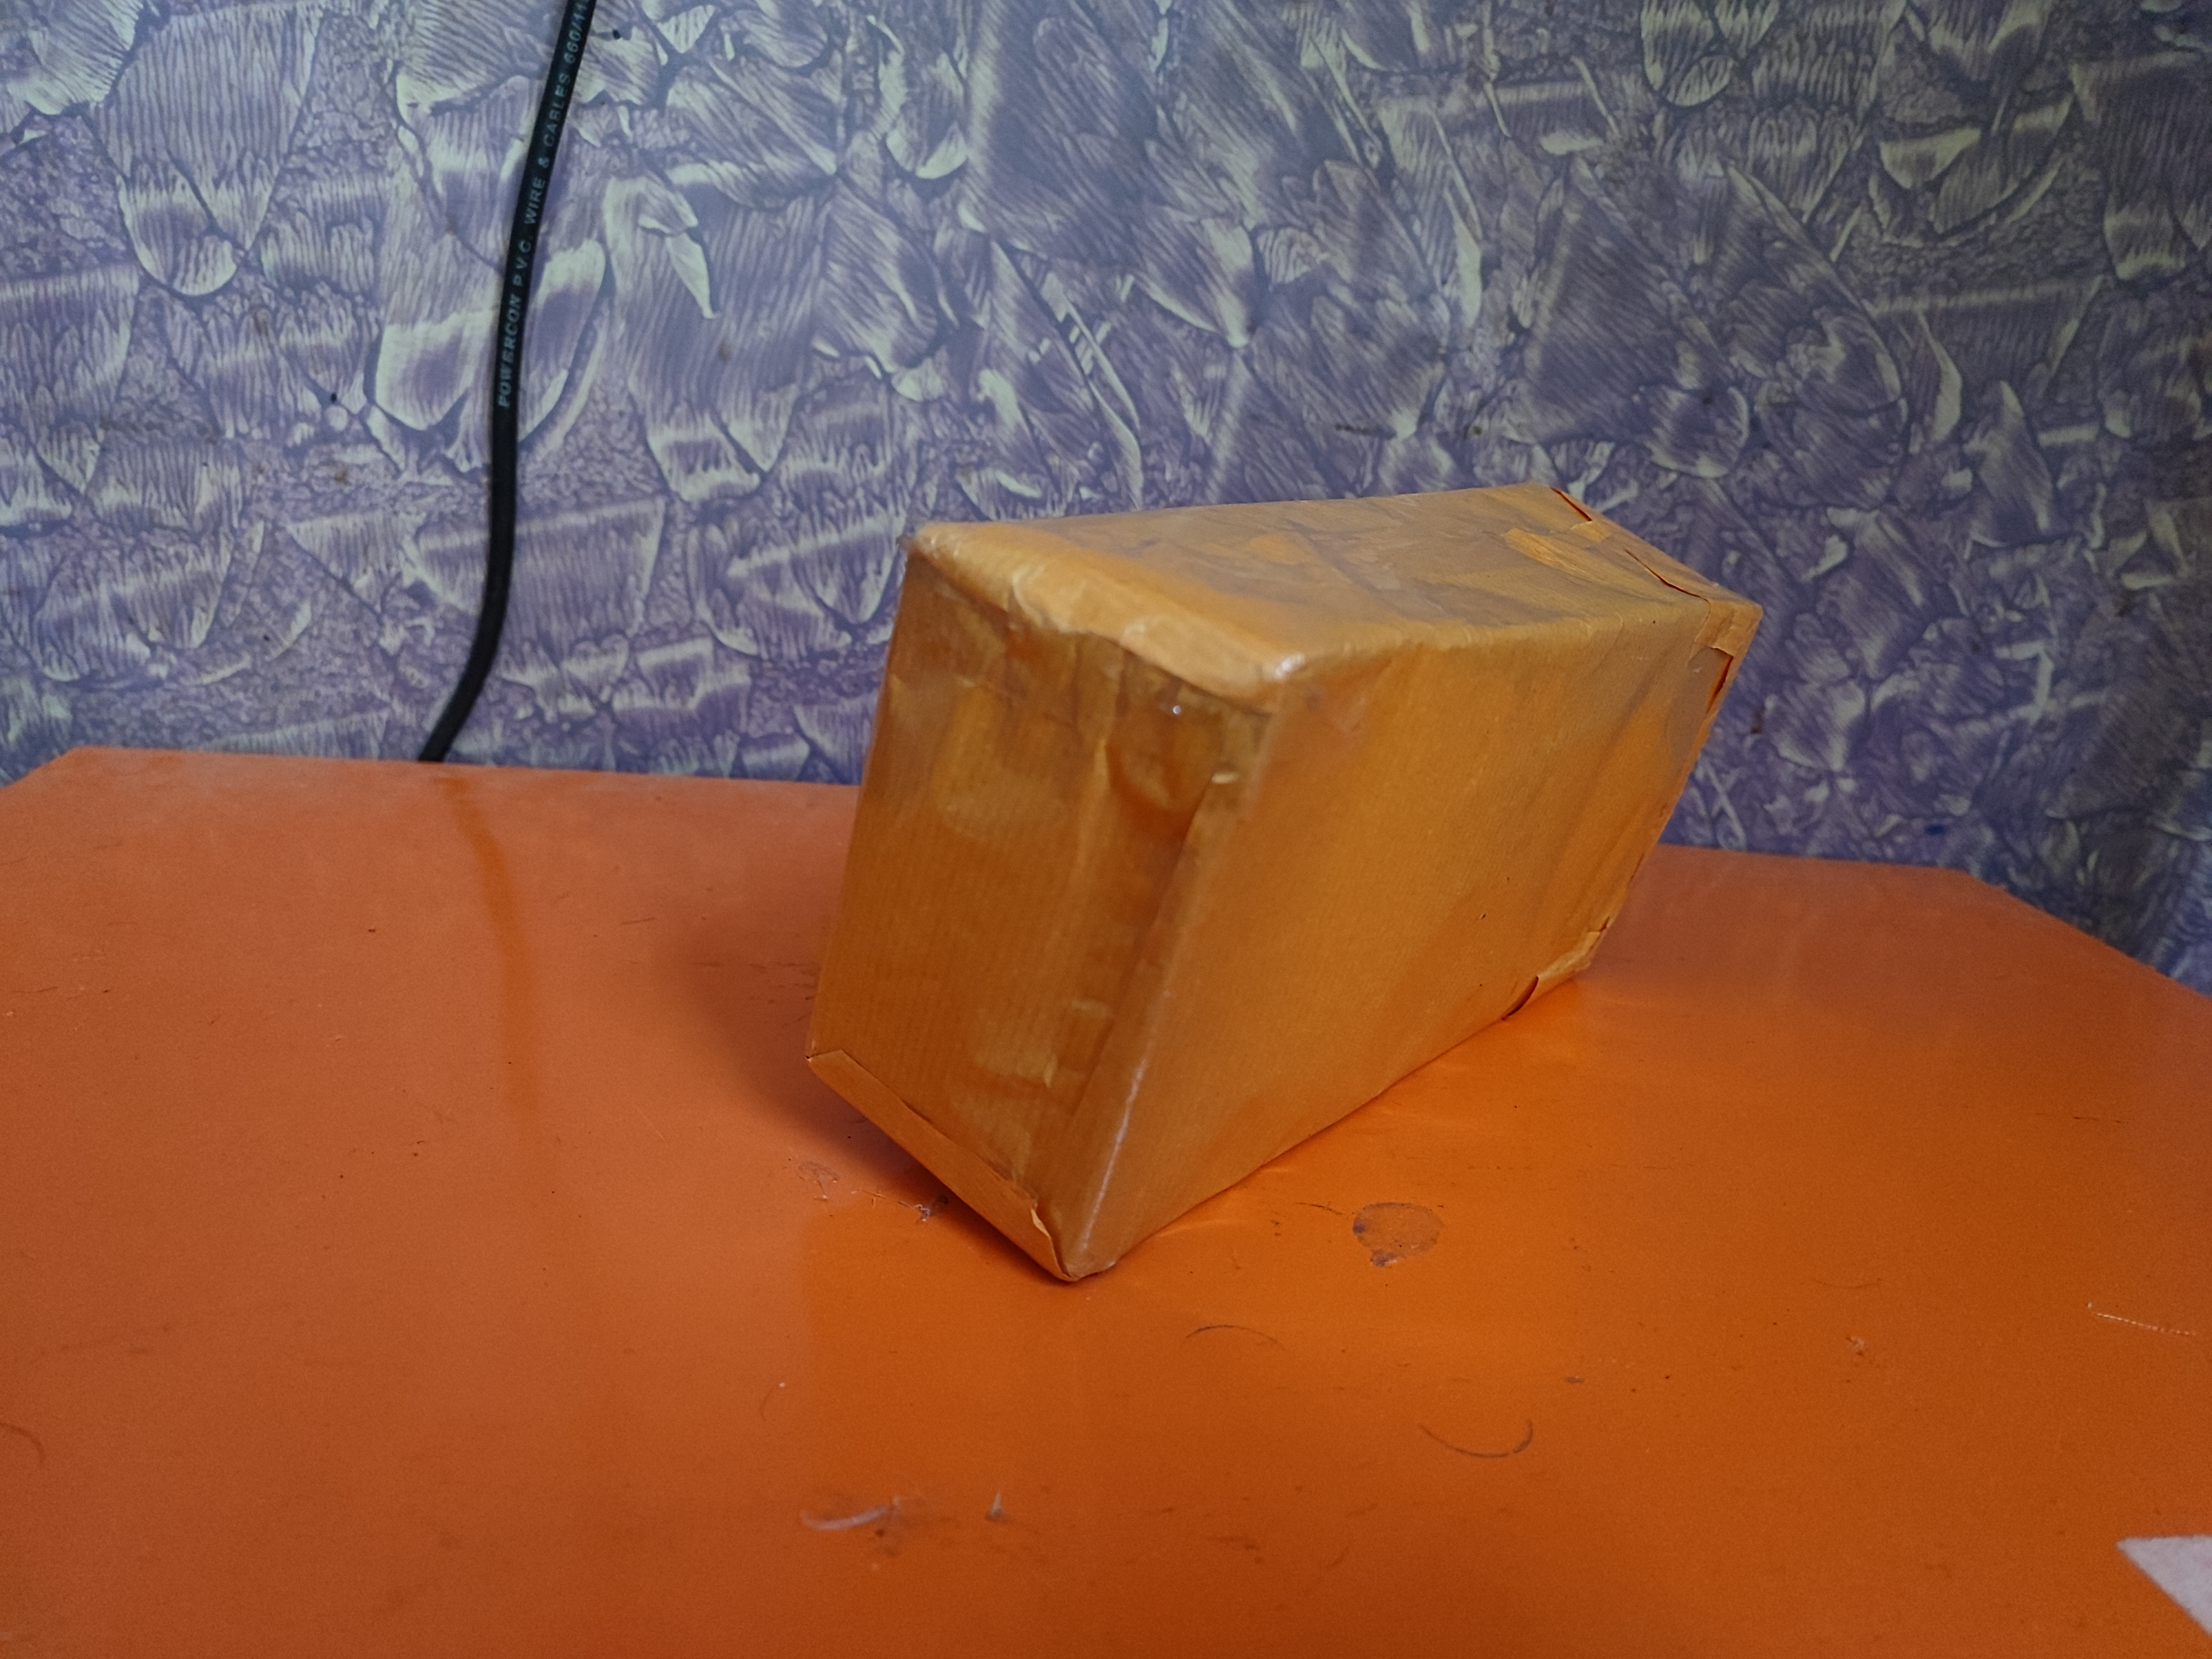Box: (725, 397, 1712, 1291)
